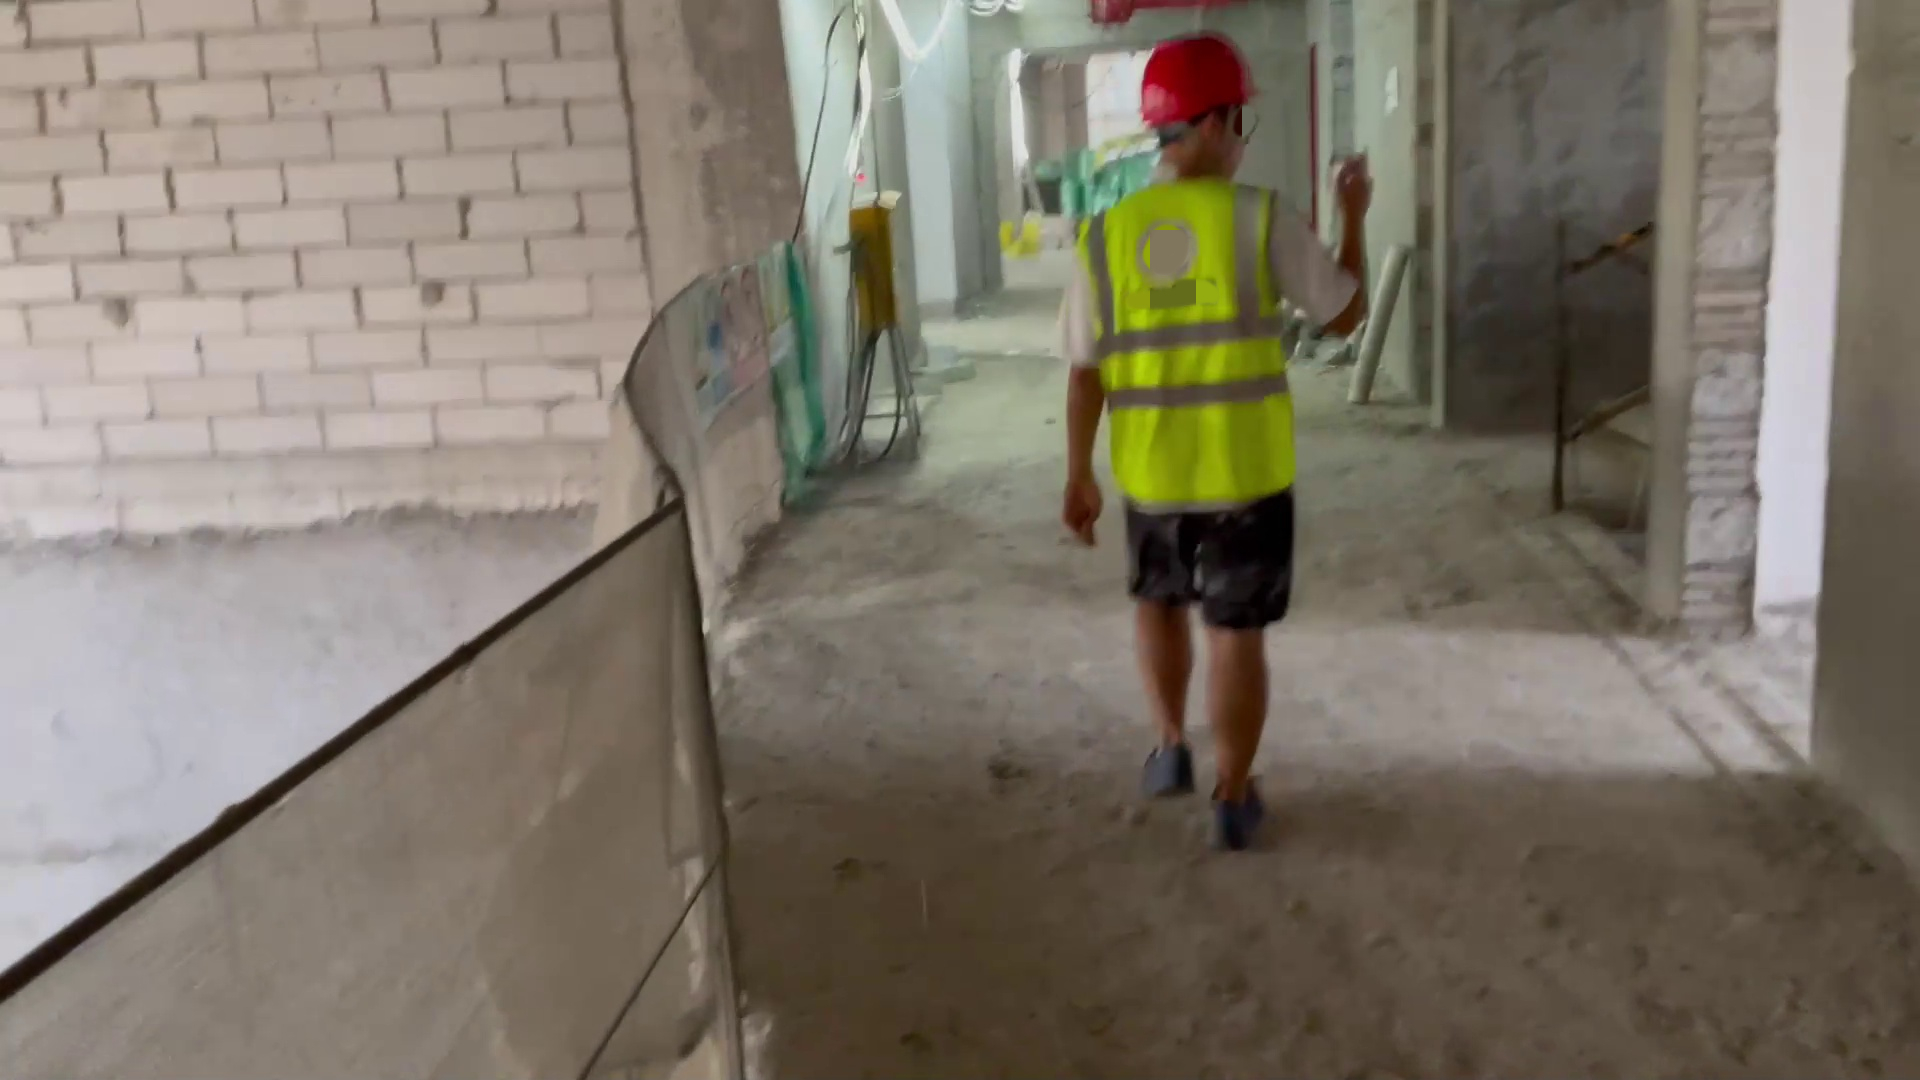ebox: (841, 187, 925, 465)
helmet: (1137, 39, 1266, 124)
person: (1065, 33, 1378, 844)
slogan: (668, 255, 809, 391)
vest: (1086, 178, 1308, 500)
